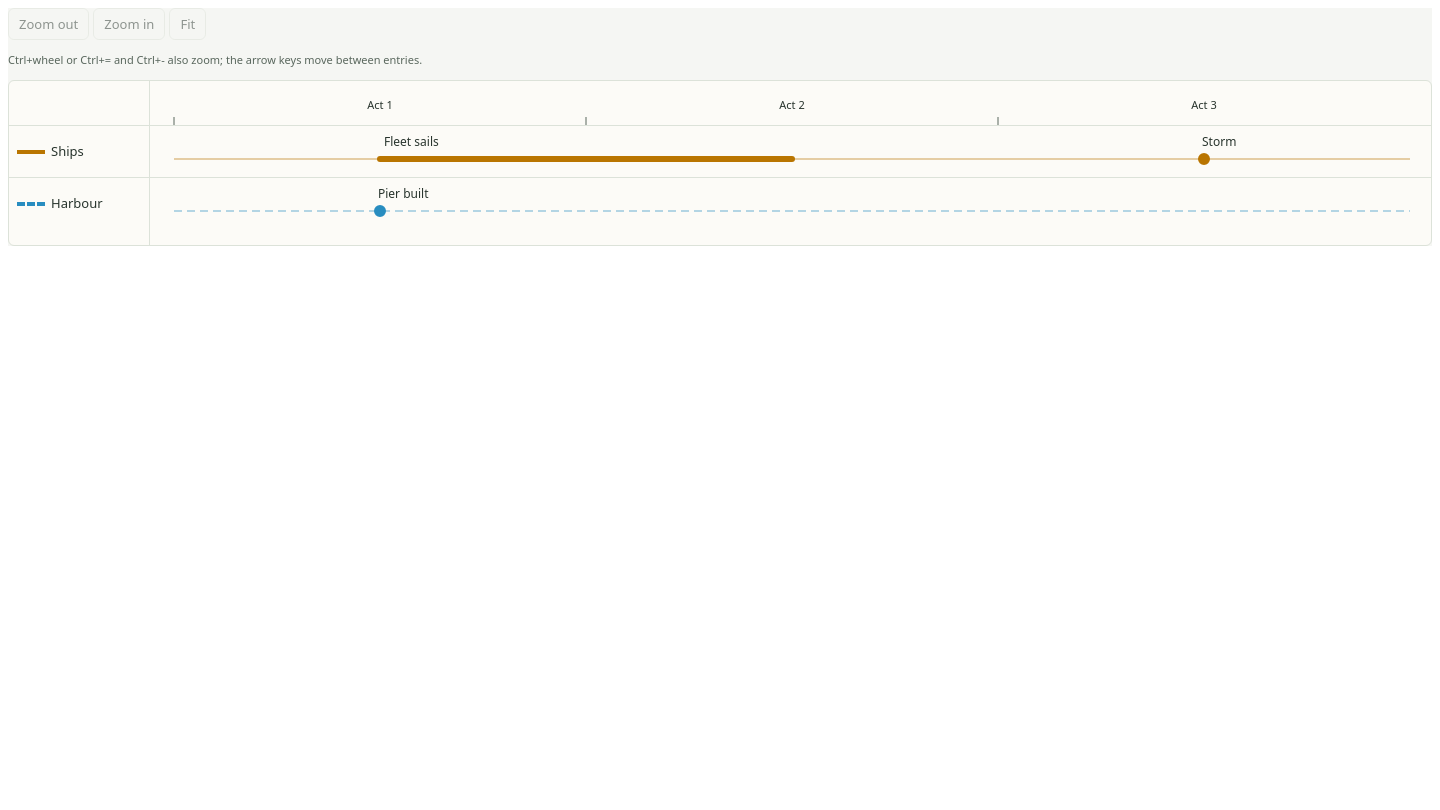
a read-only timeline › opens entries to read, without New entry, menus, moves or deleting
The width and height of the screenshot is (1440, 810).
Right-click the button with aria-label "Ships: Storm, Act 3" at (1219, 142), box [1198,133,1240,151]
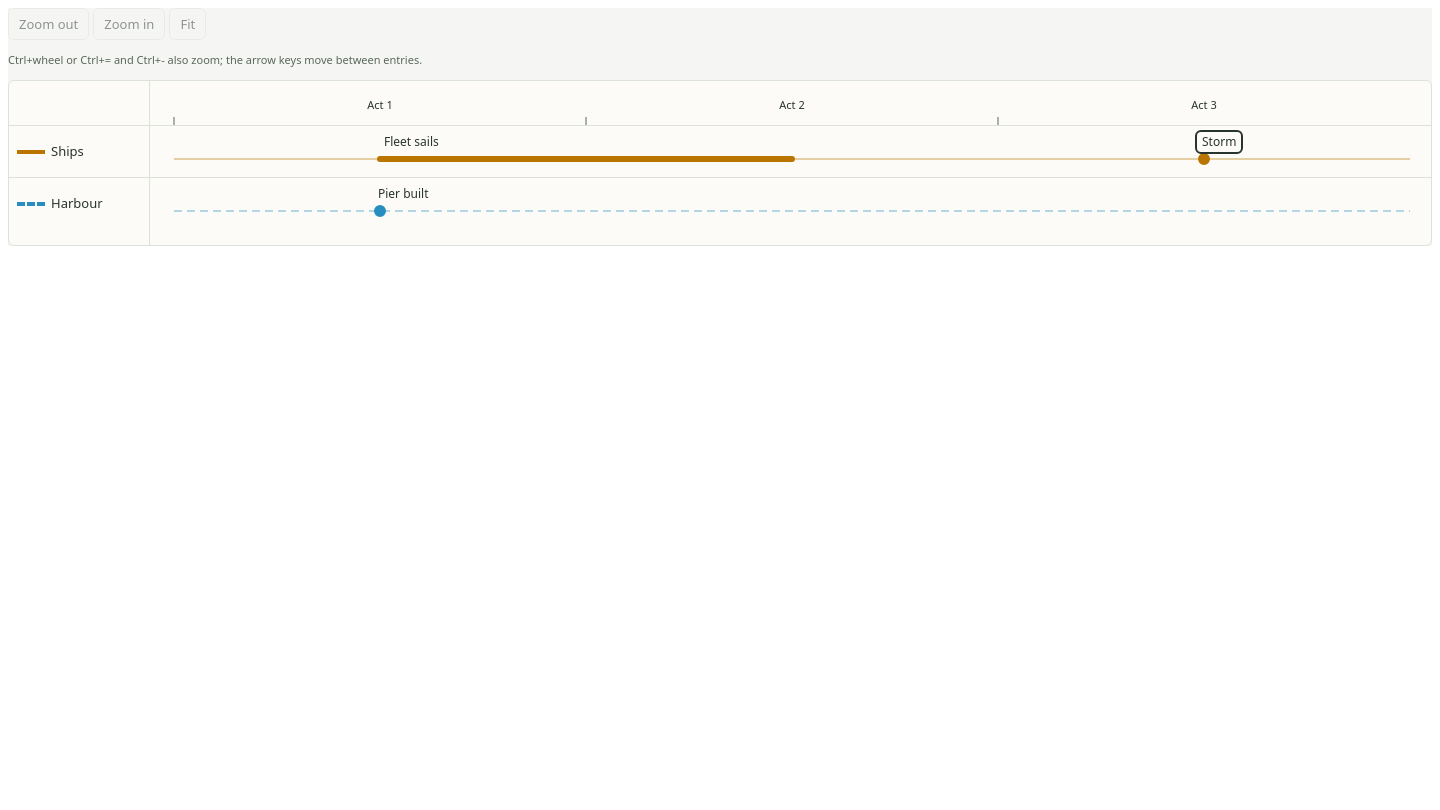
Press Delete in the button with aria-label "Ships: Storm, Act 3", box [1198,133,1240,151]
Press ArrowLeft in the button with aria-label "Ships: Storm, Act 3", box [1198,133,1240,151]
Double-click the 1st element with class "eh-timeline-lane-hit" at (792, 151), box [150,125,1434,178]
Click the button with aria-label "Ships: Storm, Act 3" at (1219, 142), box [1198,133,1240,151]
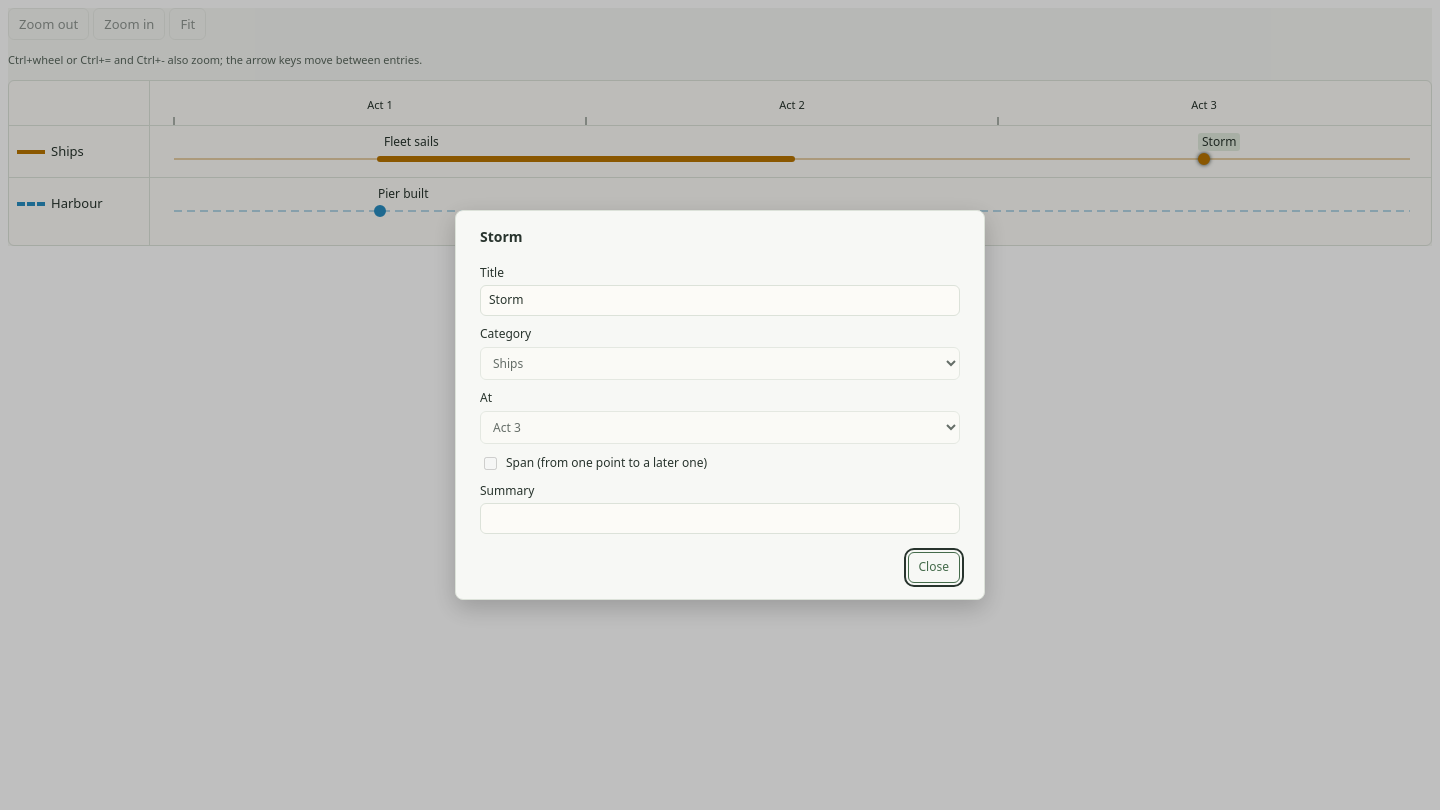
Now the field labelled "Title" is disabled, box [480,285,960,316]
Click the button "Close" at (934, 568), box [908,552,960,583]
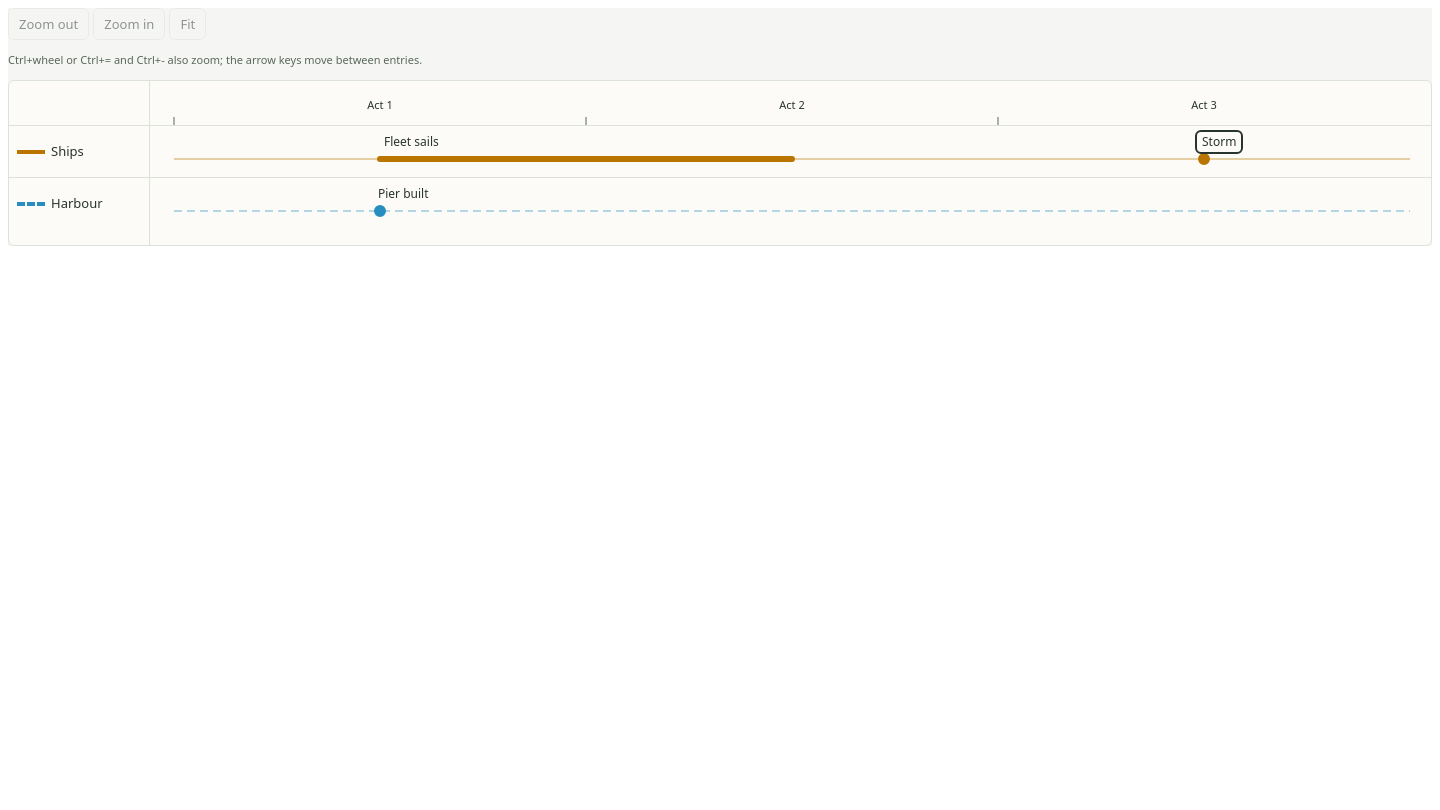
Now the dialog is gone
